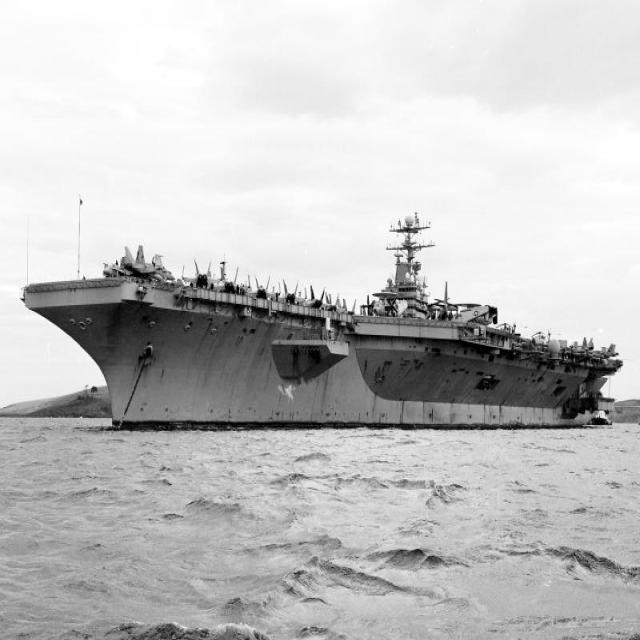Portanaves: (20, 207, 626, 435)
